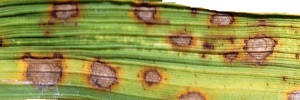RiceBrownSpot: (19, 46, 166, 94), (199, 12, 284, 72), (130, 1, 194, 49), (34, 2, 89, 39), (172, 87, 213, 100)
